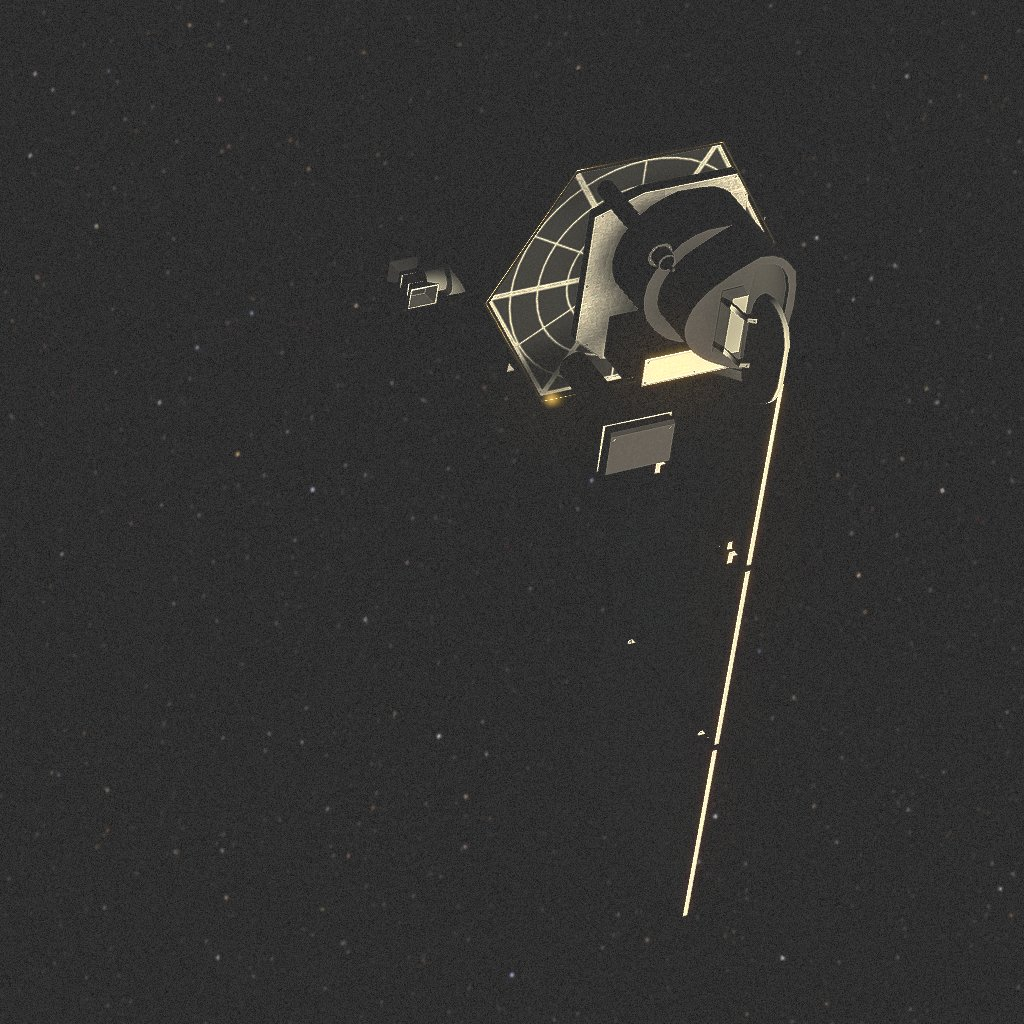earth_observation_sat_1: (400, 126, 788, 922)
